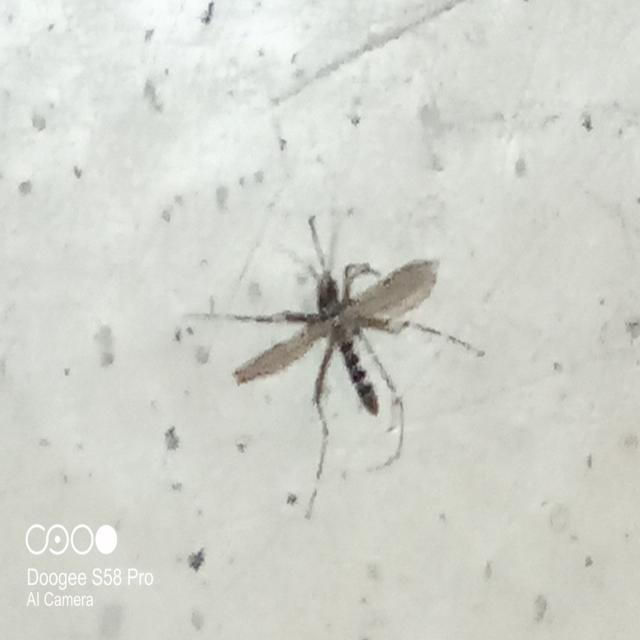albopictus: (185, 179, 494, 515)
